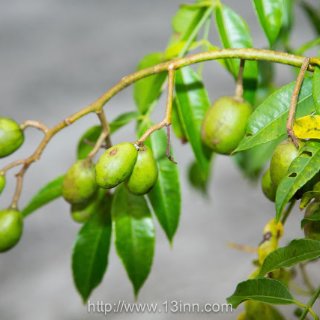coc: (95, 142, 136, 190)
